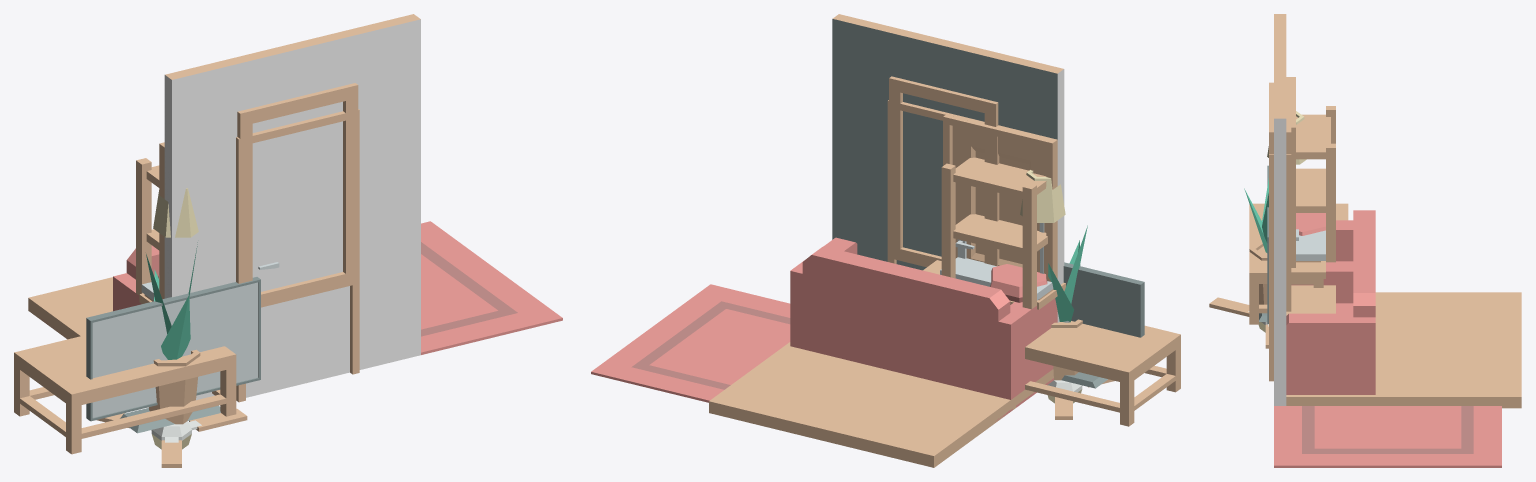
Rendered from room.glb.
3 renders of one model, left to right at view 1: azimuth 30°, elevation 25°; view 2: azimuth 150°, elevation 25°; view 3: azimuth 270°, elevation 25°, orthographic. The views are drawn at different scales.
Visible parts, largest first — view 1: wall, wallDoorway, Mesh wallWindow, televisionModern, tableCoffee, rugRectangle, floorFull, bookcaseOpen, ceilingFan, Mesh pottedPlant, plant, lampRoundFloor (+3 smaller); view 2: Mesh wallWindow, floorFull, wall, loungeSofa, rugRectangle, loungeChair, wallDoorway, tableCoffee, bookcaseOpen, door, televisionModern, Mesh doorway (+5 smaller); view 3: floorFull, rugRectangle, loungeSofa, wall, bookcaseOpen, loungeChair, wallDoorway, tableCoffee, cabinetTelevision, Mesh doorway, kitchenBar, sideTable (+6 smaller).
Boxes of the visible parts, left/top/right/bottom form: wall: left=164, top=14, right=420, bottom=400; wallDoorway: left=172, top=19, right=420, bottom=402; Mesh wallWindow: left=172, top=20, right=420, bottom=397; televisionModern: left=86, top=277, right=260, bottom=433; tableCoffee: left=14, top=335, right=236, bottom=454; rugRectangle: left=41, top=221, right=562, bottom=354; floorFull: left=28, top=277, right=112, bottom=339; bookcaseOpen: left=136, top=158, right=159, bottom=295; ceilingFan: left=96, top=408, right=247, bottom=467; Mesh pottedPlant: left=148, top=349, right=200, bottom=424; plant: left=146, top=242, right=197, bottom=359; lampRoundFloor: left=153, top=188, right=198, bottom=237; Mesh wallWindow: left=832, top=20, right=1057, bottom=270; floorFull: left=709, top=342, right=1041, bottom=467; wall: left=832, top=14, right=1064, bottom=322; loungeSofa: left=790, top=237, right=1056, bottom=410; rugRectangle: left=591, top=284, right=1053, bottom=421; loungeChair: left=900, top=273, right=1057, bottom=408; wallDoorway: left=832, top=19, right=1057, bottom=266; tableCoffee: left=1025, top=321, right=1180, bottom=426; bookcaseOpen: left=941, top=157, right=1047, bottom=309; door: left=952, top=126, right=1046, bottom=274; televisionModern: left=1061, top=262, right=1144, bottom=388; Mesh doorway: left=943, top=115, right=1057, bottom=281; floorFull: left=1286, top=292, right=1521, bottom=408; rugRectangle: left=1274, top=406, right=1501, bottom=467; loungeSofa: left=1286, top=241, right=1375, bottom=394; wall: left=1274, top=14, right=1286, bottom=405; bookcaseOpen: left=1296, top=106, right=1335, bottom=262; loungeChair: left=1291, top=210, right=1375, bottom=303; wallDoorway: left=1269, top=154, right=1291, bottom=381; tableCoffee: left=1249, top=203, right=1348, bottom=324; cabinetTelevision: left=1286, top=285, right=1335, bottom=315; Mesh doorway: left=1286, top=77, right=1295, bottom=267; kitchenBar: left=1296, top=230, right=1325, bottom=262; sideTable: left=1291, top=261, right=1325, bottom=287.
Size of the model in its own units: 2.03 by 1.42 by 1.26.
